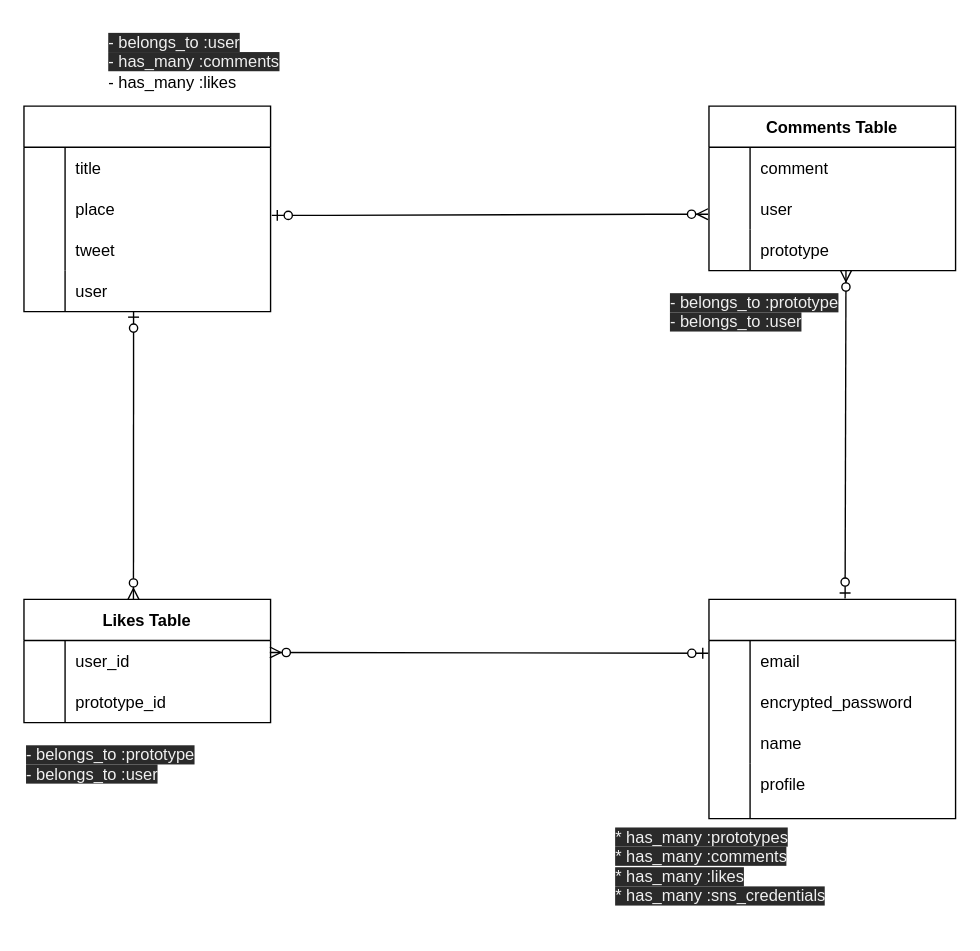
The diagram is 980 pixels wide and 951 high, and some of its shapes have lost their labels. Here are the shapes that lost their labels. From the top down, the box of each, then its label:
(23, 105, 271, 312): Prototypes Table
(708, 598, 956, 819): Users Table
